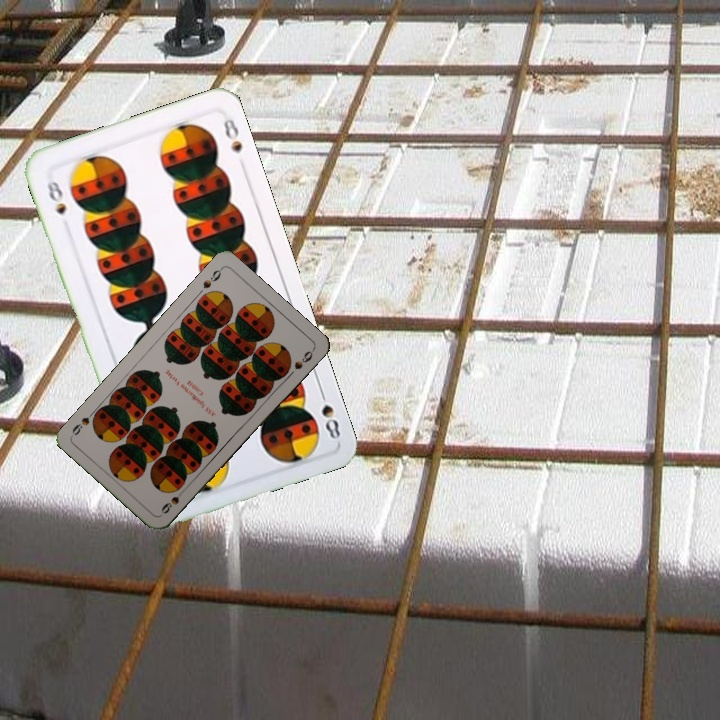S8: (315, 384, 343, 442), (42, 170, 69, 217)
S9: (157, 484, 188, 517), (199, 264, 225, 291)
